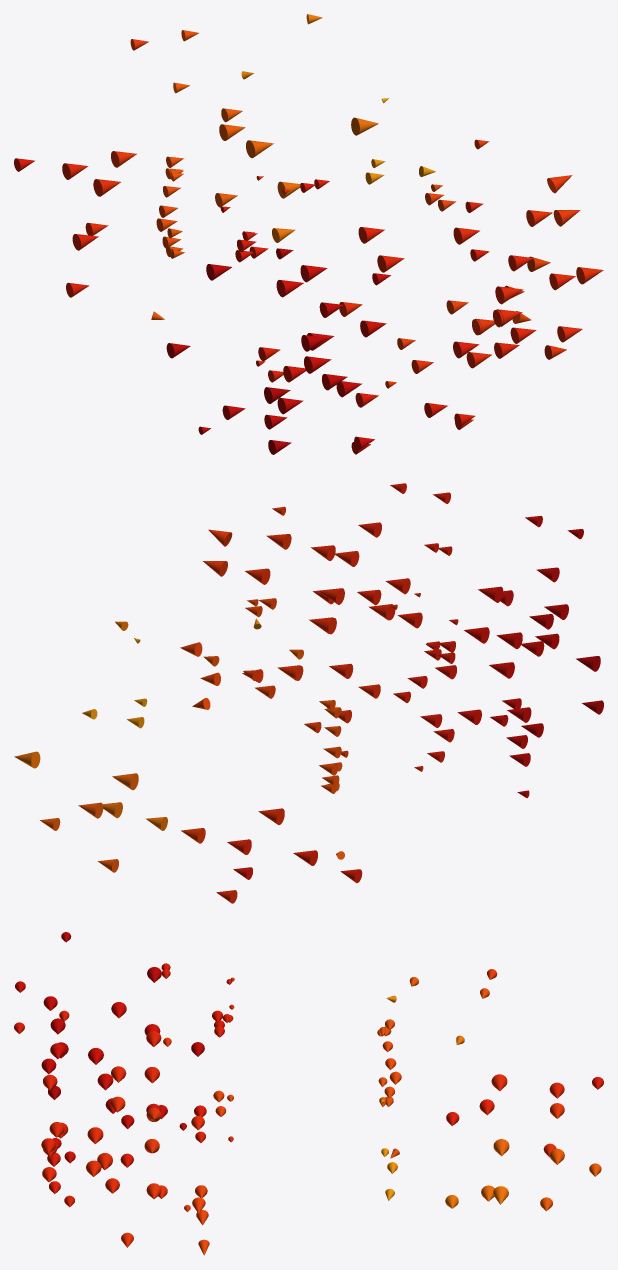
File: LineasCorrienteH2-O2_mh2-6.88_V-1.1.glb
3 views of the same model, one above another, from view 1: azimuth 30°, elevation 25°; view 2: azimuth 150°, elevation 25°; view 3: azimuth 270°, elevation 25° (orthographic). The views are drawn at different scales.
Bounding box in the file's own units: 0.000805 × 0.000482 × 0.00123.
Materials: 2 (2 with a texture image).
